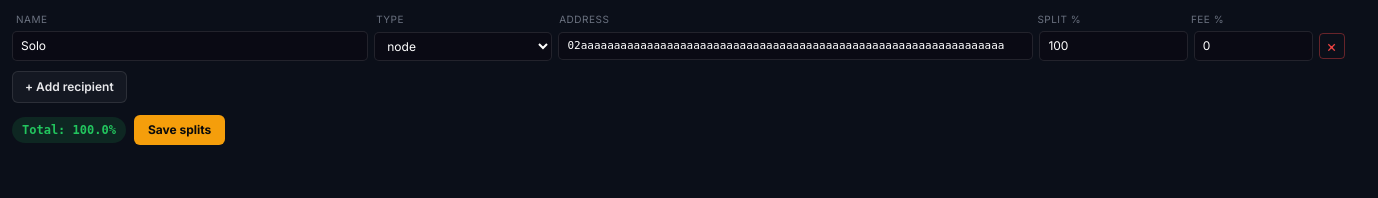
Scenario: Phase 36d Turn 3 — Lightning splits › editor row count + Add/Delete buttons mutate state
Expected: the element with test id "lightning-row-0" is shown, [12,31,1377,61]
Add row → mount a 2nd row in DOM.
Click the button with test id "lightning-add". click: (69, 87)
box: [12,71,127,103]
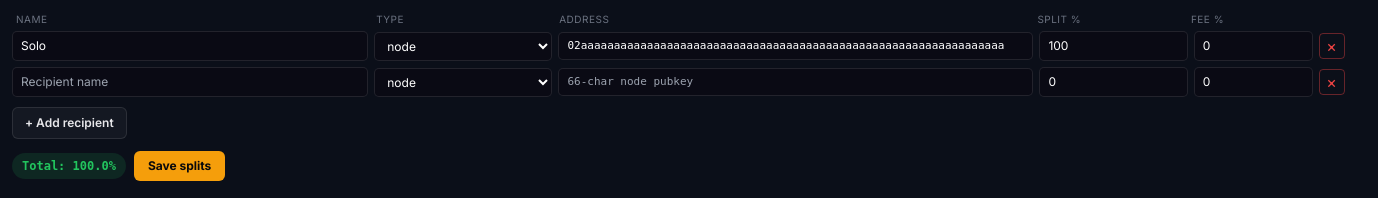
Expected: the element with test id "lightning-row-1" is shown, [12,67,1377,97]
Push row 0 to 70% → total 70 → Save disables.
Replace the text in the number field with test id "lightning-split-0" with "70". click: (1114, 46)
box: [1039,31,1188,61]
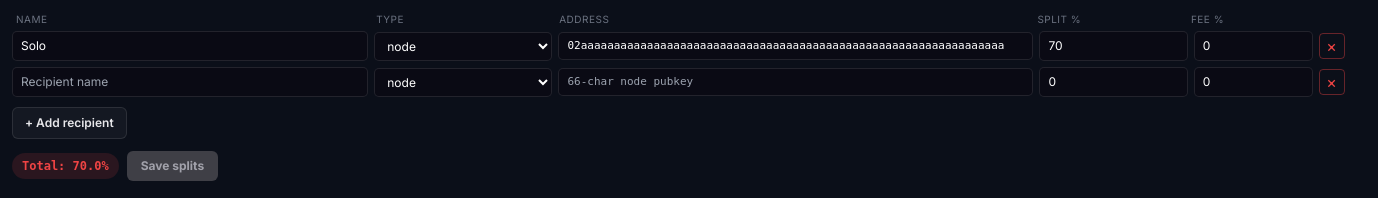
Expected: the button with test id "lightning-save" is disabled, [127,151,218,181]
Click the button with test id "lightning-delete-1". click: (1332, 82)
box: [1319,69,1345,95]
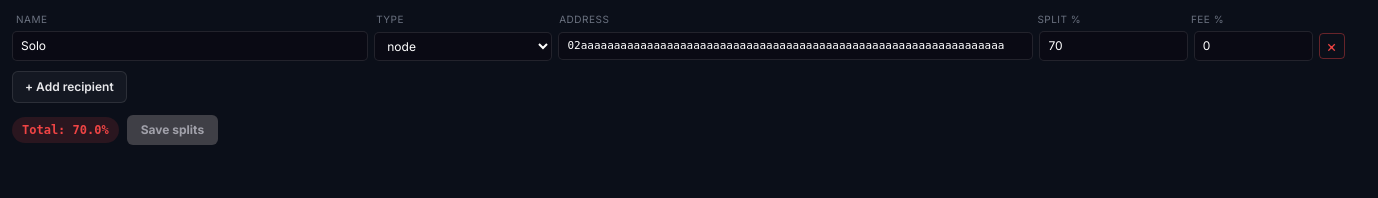
Expected: the button with test id "lightning-save" is disabled, [127,115,218,145]
Expected: the element with test id "lightning-row-1" is gone
Bump row 0 back to 100 → Save re-enables.
Replace the text in the number field with test id "lightning-split-0" with "100". click: (1114, 46)
box: [1039,31,1188,61]
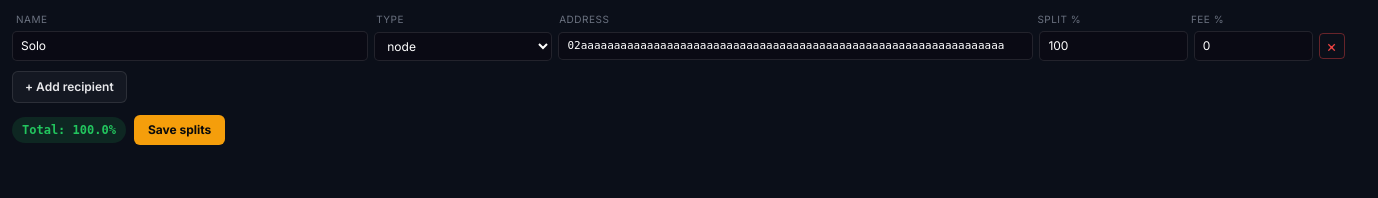
Expected: the button with test id "lightning-save" is enabled, [134,115,225,145]
